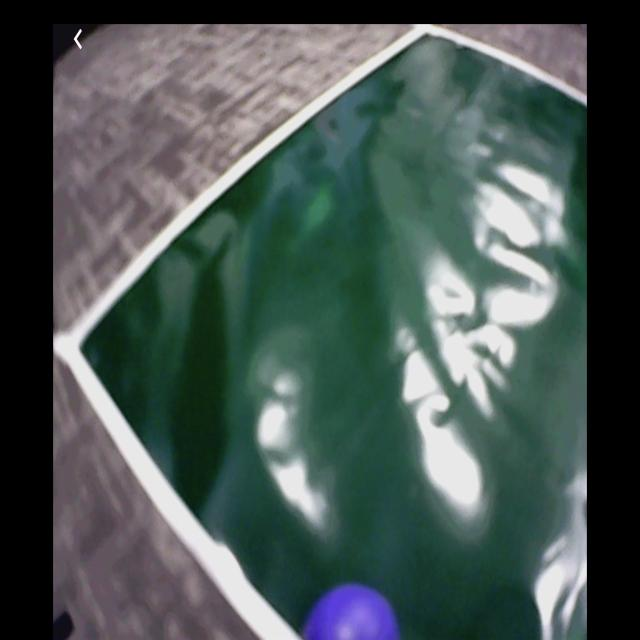ball: (300, 584, 399, 640)
